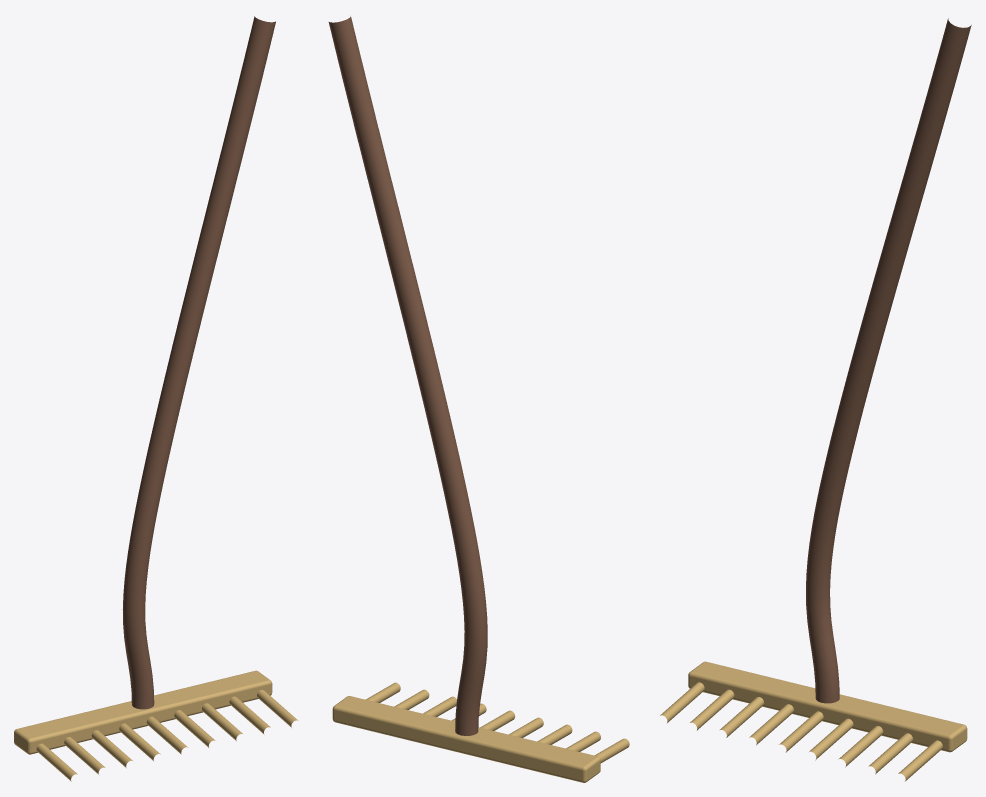
File: griffin-airmail-roost-and-posthouse-roost-cleaning-rak-7702ac92__30513.glb
3 views of the same model, side by side, from view 1: azimuth 30°, elevation 25°; view 2: azimuth 150°, elevation 25°; view 3: azimuth 330°, elevation 25° (orthographic). The views are drawn at different scales.
Parts seen in each view (by area): view 1: roost-cleaning-rake; view 2: roost-cleaning-rake; view 3: roost-cleaning-rake.
Boxes of the visible parts, x1,y1,x2,y2 form: roost-cleaning-rake: (14,16,298,781); roost-cleaning-rake: (328,16,629,782); roost-cleaning-rake: (660,18,971,781).
Size of the model in its own units: 0.4155 by 1.06 by 0.1431.
